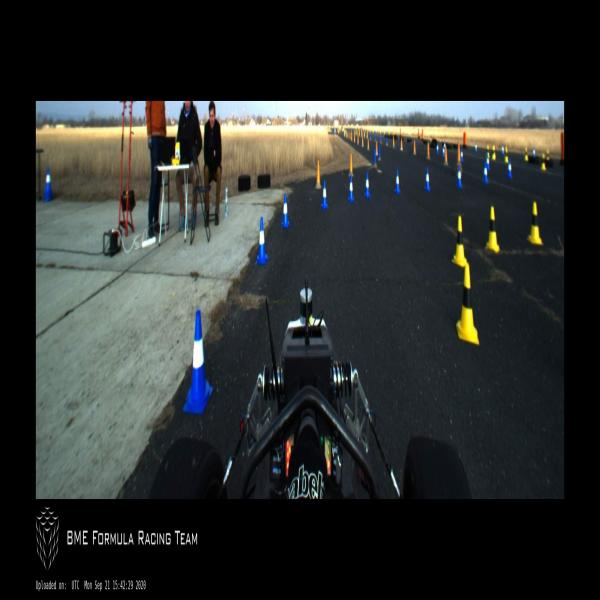blue_cone: (183, 310, 213, 414), (255, 216, 268, 265), (281, 193, 290, 228), (44, 164, 53, 193), (347, 175, 356, 202), (393, 168, 402, 194), (321, 179, 328, 210), (364, 173, 371, 198), (456, 164, 463, 188), (424, 168, 431, 190), (483, 162, 488, 185), (507, 159, 512, 179), (460, 147, 464, 163), (486, 155, 490, 171), (532, 147, 536, 157), (501, 143, 504, 156), (436, 142, 439, 154), (474, 141, 477, 153), (442, 145, 444, 157), (444, 140, 446, 148)
yellow_cone: (456, 264, 481, 345), (451, 216, 468, 266), (485, 206, 500, 253), (527, 202, 543, 244), (541, 153, 546, 171), (524, 146, 529, 160), (492, 144, 496, 161), (504, 146, 508, 162), (486, 144, 490, 158), (546, 148, 549, 161)
